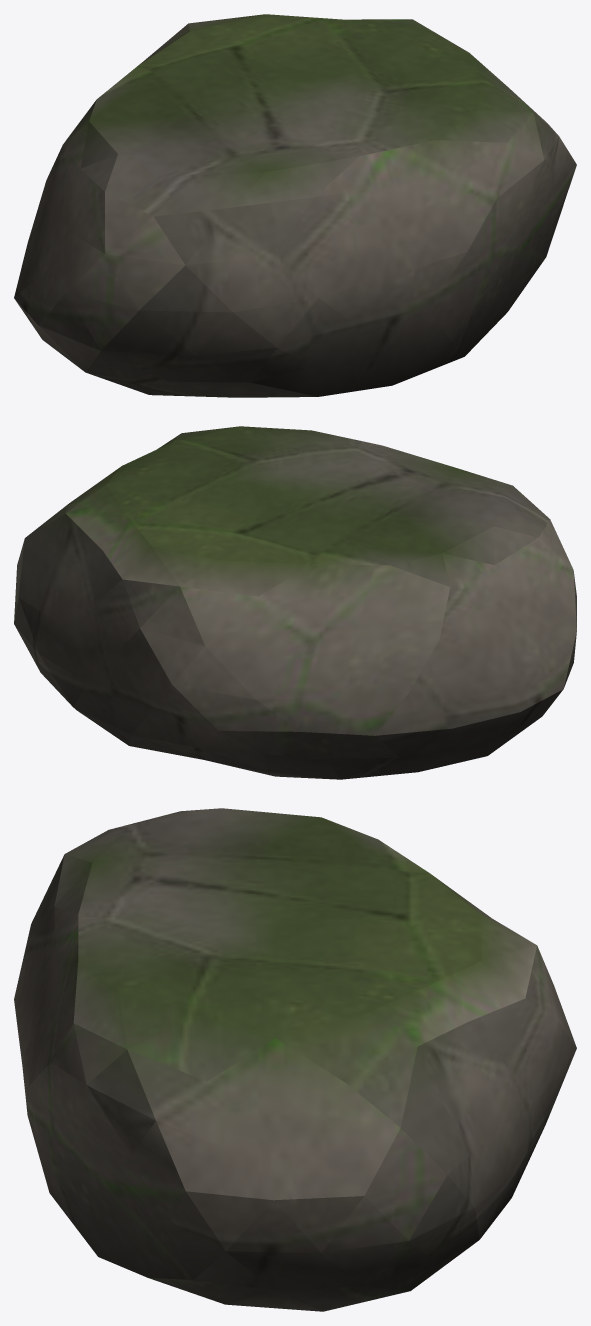
Rendered from rock_boulder_medium.glb.
The picture shows the model from 3 angles, top to bottom: view 1: azimuth 30°, elevation 25°; view 2: azimuth 150°, elevation 25°; view 3: azimuth 270°, elevation 25°; orthographic projection. The views are drawn at different scales.
Parts seen in each view (by area): view 1: rock_boulder_medium; view 2: rock_boulder_medium; view 3: rock_boulder_medium.
Boxes of the visible parts, x1,y1,x2,y2 form: rock_boulder_medium: [14, 14, 576, 397]; rock_boulder_medium: [14, 426, 576, 779]; rock_boulder_medium: [14, 808, 576, 1311].
Bounding box in the file's own units: 1.61 × 0.7363 × 1.24.
1 material, 1 textured.
